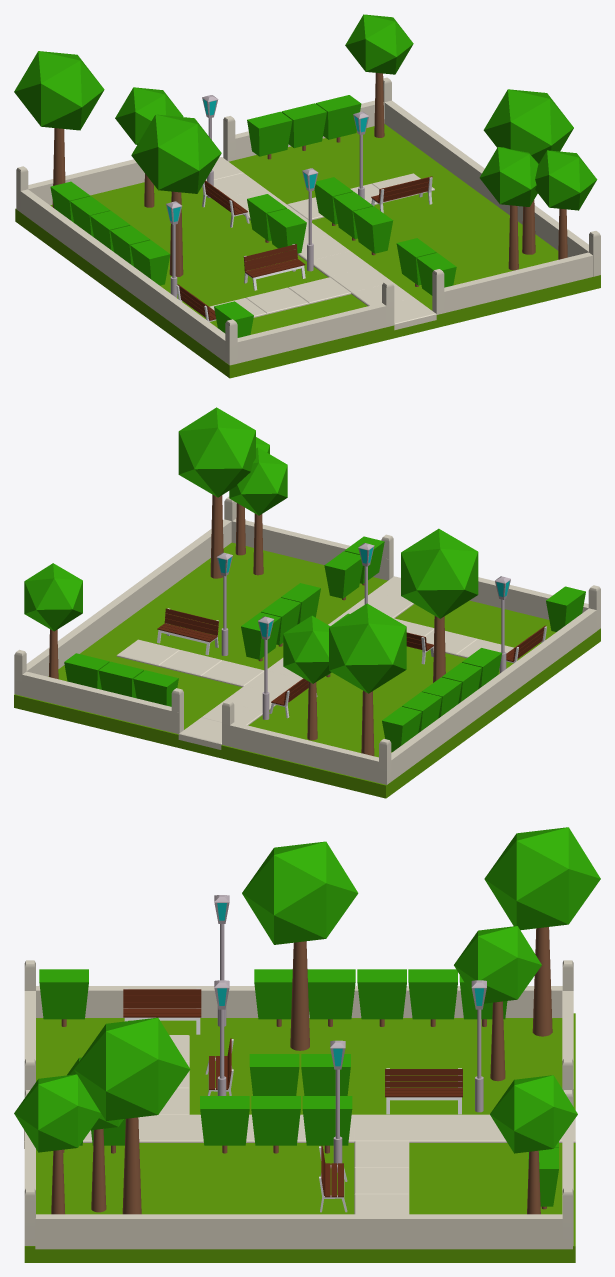
The model's file is Park02.fbx.
The picture shows the model from 3 angles, top to bottom: view 1: azimuth 30°, elevation 25°; view 2: azimuth 150°, elevation 25°; view 3: azimuth 270°, elevation 25°; orthographic projection. The views are drawn at different scales.
Visible parts, largest first — view 1: polySurface271; view 2: polySurface271; view 3: polySurface271.
Part boxes in pixels (x1=…): polySurface271: x1=14, y1=14, x2=600, y2=378; polySurface271: x1=14, y1=407, x2=600, y2=798; polySurface271: x1=14, y1=827, x2=600, y2=1262.
Bounding box in the file's own units: 1952 × 838 × 2031.
